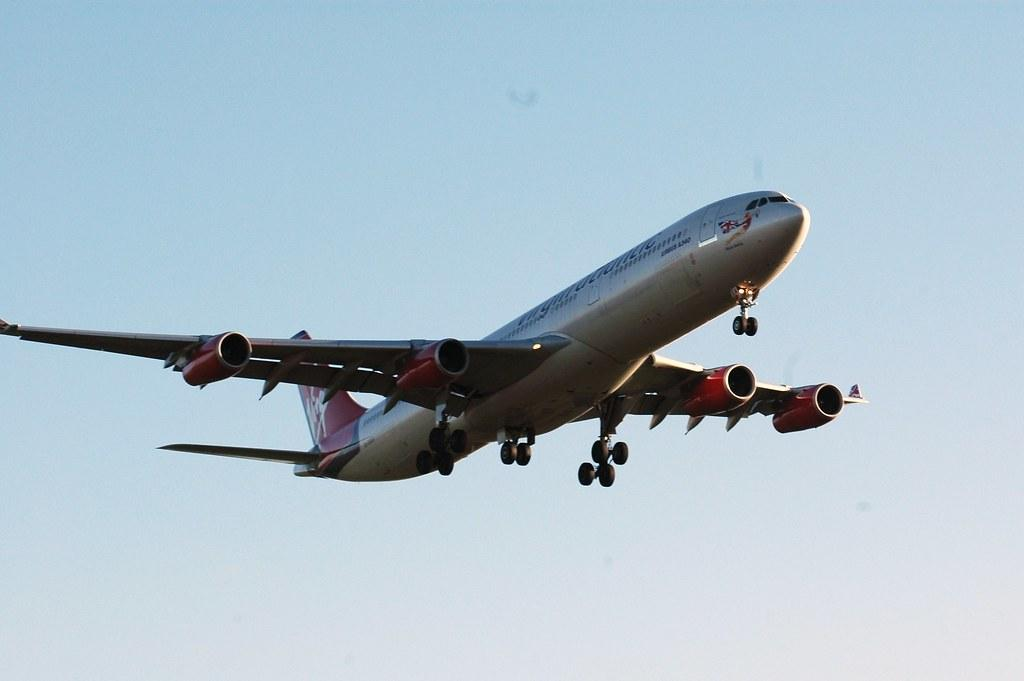plane: (1, 188, 870, 488)
